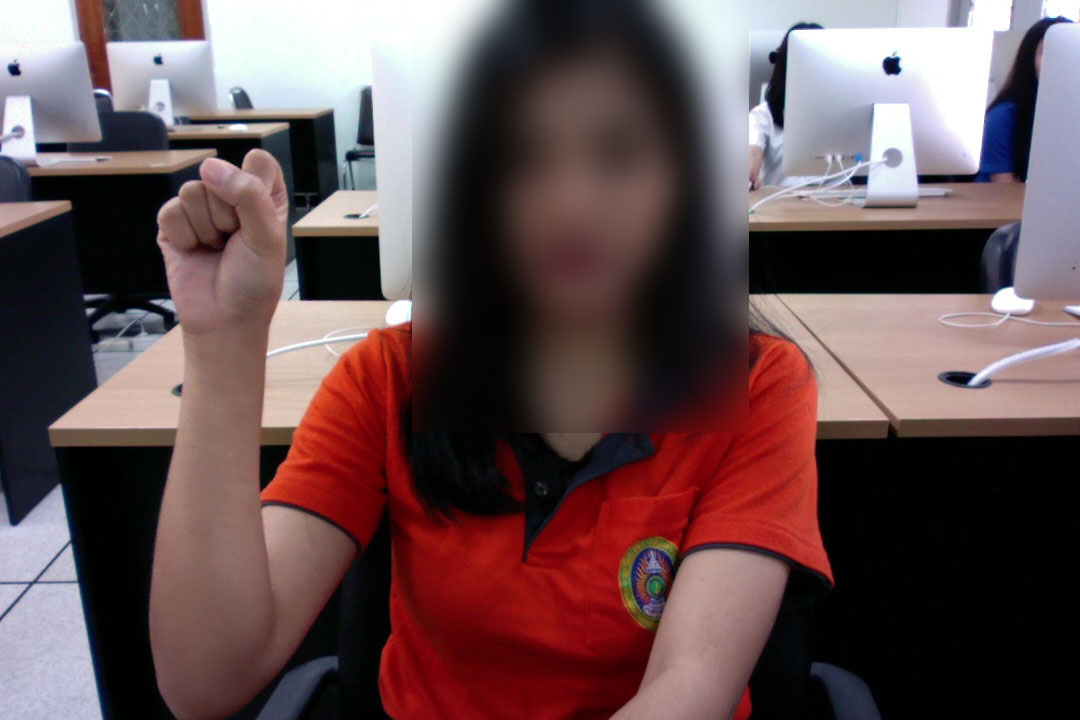sor: (149, 142, 297, 344)
